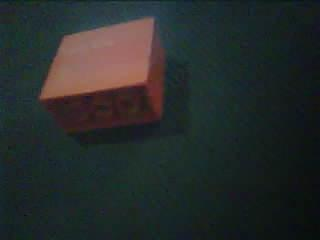lego: (38, 16, 166, 135)
